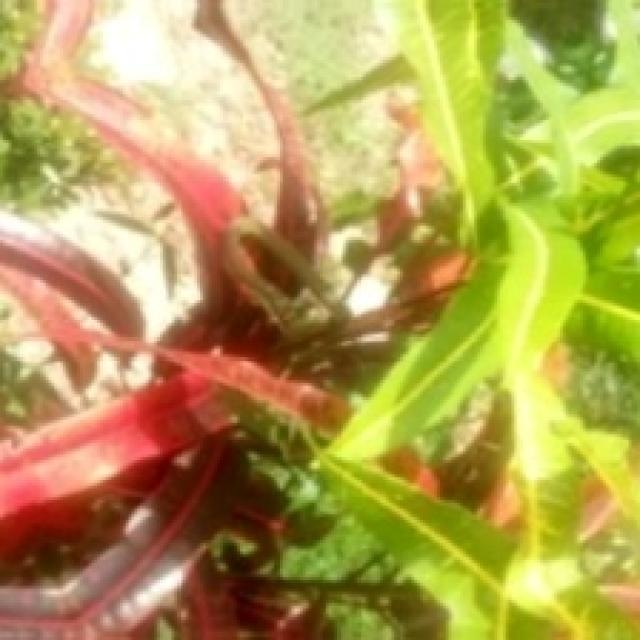paradise tree snake: (0, 0, 451, 637)
